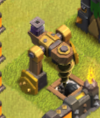dark_elixir_colector: (16, 16, 85, 98)
